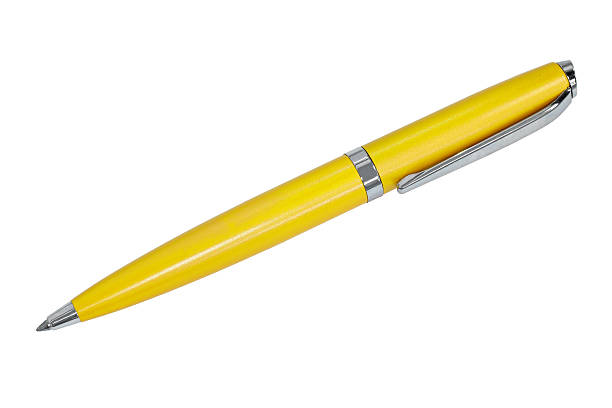pen: (31, 49, 590, 338)
